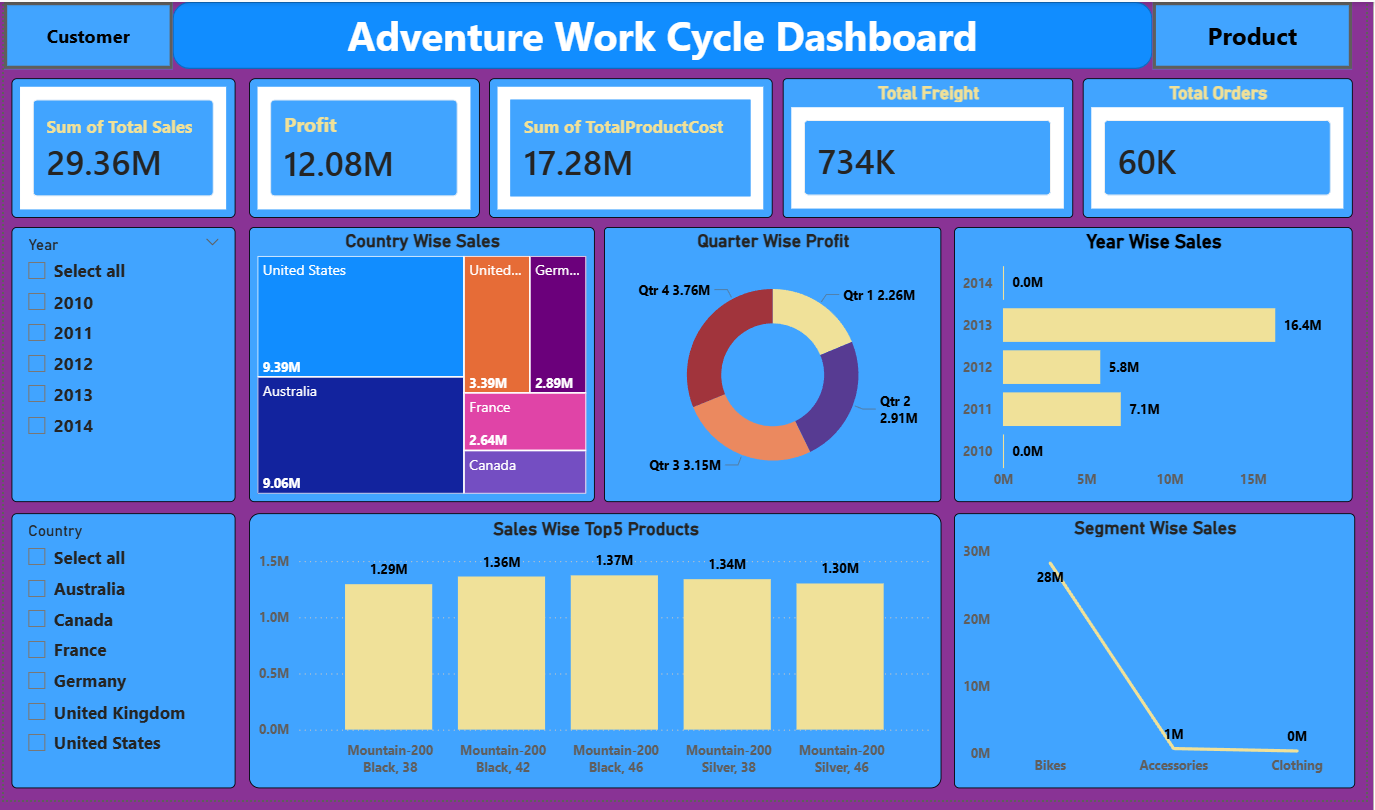

This screenshot's page, from the dashboard's own definition file:
{"tool":"powerbi","page":{"name":"OverView","canvas":[1280,750],"ordinal":0},"visuals":[{"type":"columnChart","title":"Sales Wise Top5 Products","fields":{"Category":["Total Sales.Product Name"],"Y":["Sum(Total Sales.SalesAmount)"]},"box":[229.9,480.5,650.6,258.4],"z":0},{"type":"lineChart","title":"Segment Wise Sales","fields":{"Category":["DimProdCategory.EnglishProductCategoryName"],"Y":["Sum(Total Sales.SalesAmount)"]},"box":[892.2,480.5,376.6,258.4],"z":1000},{"type":"clusteredBarChart","title":" Year Wise Sales","fields":{"Category":["Total Sales.OrderDate.Variation.Date Hierarchy.Year"],"Y":["Sum(Total Sales.SalesAmount)"]},"box":[892.2,211.7,374,258.4],"z":2000},{"type":"donutChart","title":"Quarter Wise Profit","fields":{"Category":["Total Sales.OrderDate.Variation.Date Hierarchy.Quarter"],"Y":["Total Sales.Profit"]},"box":[563.6,211.7,316.9,258.4],"z":3000},{"type":"slicer","fields":{"Values":["Total Sales.OrderDate.Variation.Date Hierarchy.Year"]},"box":[6.5,211.7,210.4,258.4],"z":4000},{"type":"slicer","fields":{"Values":["DimSalesTerritory.SalesTerritoryCountry"]},"box":[6.5,480.5,210.4,258.4],"z":5000},{"type":"treemap","title":"Country Wise Sales","fields":{"Group":["DimSalesTerritory.SalesTerritoryCountry"],"Values":["Sum(Total Sales.Total Sales)"]},"box":[229.9,211.7,324.7,258.4],"z":6000},{"type":"cardVisual","fields":{"Data":["Sum(Total Sales.SalesAmount)"]},"box":[6.5,71.4,210.4,131.2],"z":7000},{"type":"cardVisual","fields":{"Data":["Total Sales.Profit"]},"box":[229.9,71.4,216.9,131.2],"z":8000},{"type":"cardVisual","fields":{"Data":["Sum(Total Sales.TotalProductCost)"]},"box":[455.8,71.4,266.2,131.2],"z":9000},{"type":"cardVisual","title":"Total Freight","fields":{"Data":["Sum(Total Sales.Freight)"]},"box":[731.2,71.4,272.7,131.2],"z":10000},{"type":"cardVisual","title":"Total Orders","fields":{"Data":["Sum(Total Sales.OrderQuantity)"]},"box":[1013,71.4,253.2,131.2],"z":11000},{"type":"shape","box":[158.6,0,920,62.9],"z":12000},{"type":"actionButton","box":[0,0,158.6,62.9],"z":13000},{"type":"actionButton","box":[1078.6,0,187.1,62.9],"z":14000}]}

Visuals, with their boxes in screenshot pixels (x1, y1, x2, y2), scaled from the page's 1280x750 canvas onto the 1375x810 screenshot:
"Sales Wise Top5 Products" columnChart: l=247, t=519, r=946, b=798
"Segment Wise Sales" lineChart: l=958, t=519, r=1363, b=798
" Year Wise Sales" clusteredBarChart: l=958, t=229, r=1360, b=508
"Quarter Wise Profit" donutChart: l=605, t=229, r=946, b=508
slicer - Total Sales.OrderDate.Variation.Date Hierarchy.Year: l=7, t=229, r=233, b=508
slicer - DimSalesTerritory.SalesTerritoryCountry: l=7, t=519, r=233, b=798
"Country Wise Sales" treemap: l=247, t=229, r=596, b=508
cardVisual - Sum(Total Sales.SalesAmount): l=7, t=77, r=233, b=219
cardVisual - Total Sales.Profit: l=247, t=77, r=480, b=219
cardVisual - Sum(Total Sales.TotalProductCost): l=490, t=77, r=776, b=219
"Total Freight" cardVisual: l=785, t=77, r=1078, b=219
"Total Orders" cardVisual: l=1088, t=77, r=1360, b=219
shape: l=170, t=0, r=1159, b=68
actionButton: l=0, t=0, r=170, b=68
actionButton: l=1159, t=0, r=1360, b=68
